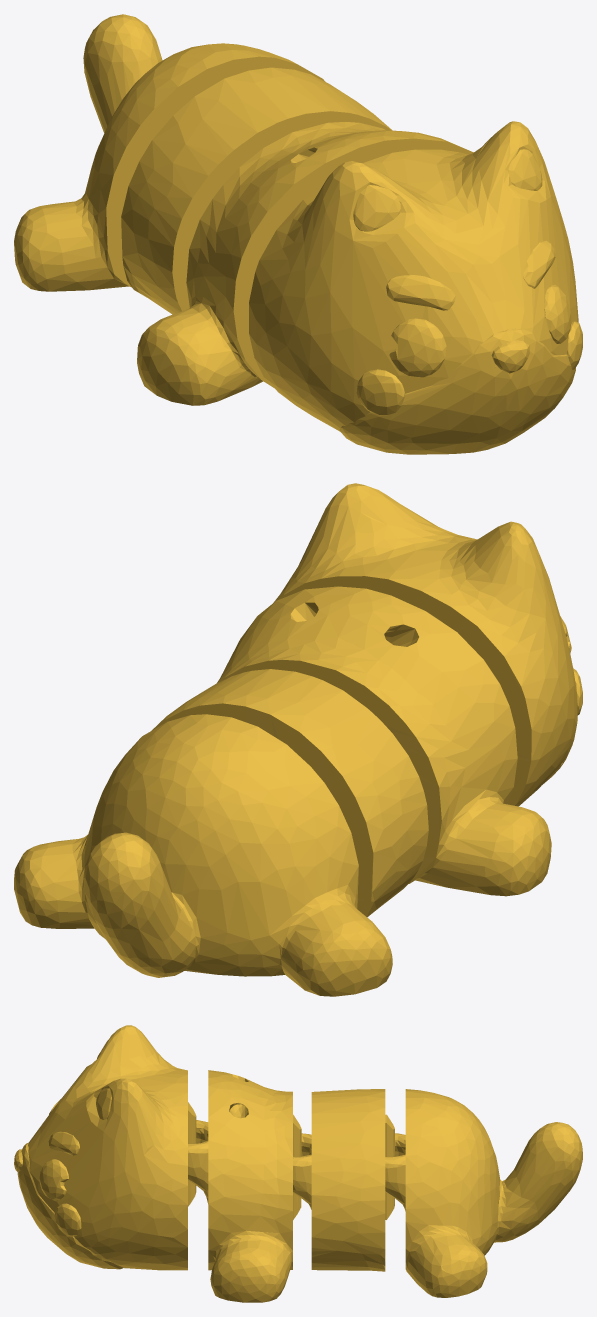
File: shiba.glb
The picture shows the model from 3 angles, top to bottom: view 1: azimuth 30°, elevation 25°; view 2: azimuth 150°, elevation 25°; view 3: azimuth 270°, elevation 25°; orthographic projection. The views are drawn at different scales.
Parts seen in each view (by area): view 1: A43_Flexi_Shiba_Keychain; view 2: A43_Flexi_Shiba_Keychain; view 3: A43_Flexi_Shiba_Keychain.
Boxes of the visible parts, x1,y1,x2,y2 form: A43_Flexi_Shiba_Keychain: (14, 14, 582, 454); A43_Flexi_Shiba_Keychain: (14, 483, 582, 996); A43_Flexi_Shiba_Keychain: (14, 1025, 582, 1302).
Size of the model in its own units: 0.9512 by 0.6177 by 1.72.
